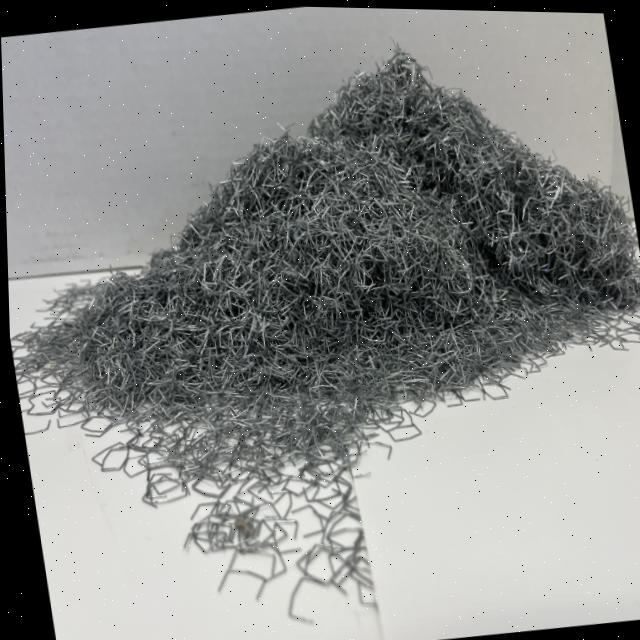staples: (0, 4, 640, 471)
